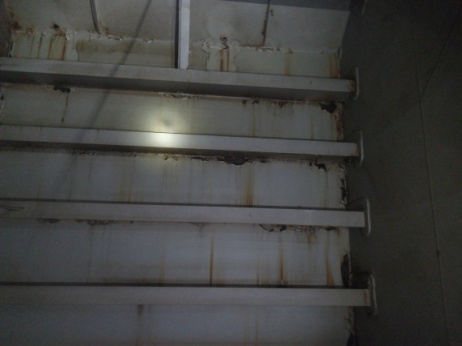corrosion: (313, 248, 336, 283), (272, 243, 291, 285), (297, 152, 336, 171), (16, 30, 45, 55), (242, 174, 265, 203), (308, 99, 342, 118), (203, 242, 217, 283), (217, 36, 232, 73), (49, 33, 71, 57), (38, 86, 77, 96)
